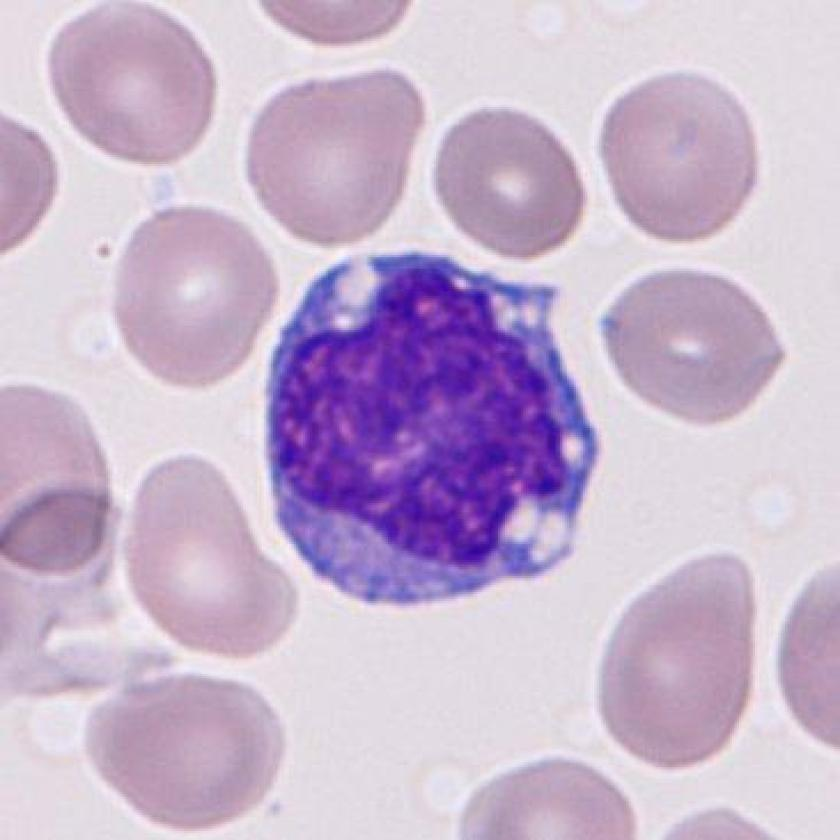monocyte: (240, 226, 618, 634)
